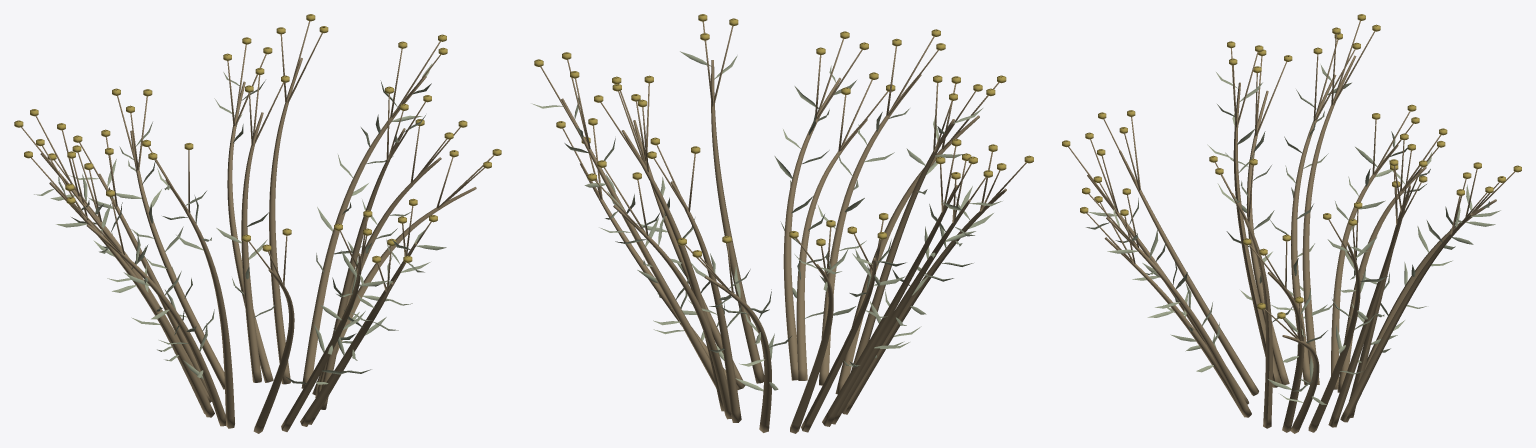
The model's file is Immortelle_0_Niveau1.fbx.
The picture shows the model from 3 angles, left to right: view 1: azimuth 30°, elevation 25°; view 2: azimuth 150°, elevation 25°; view 3: azimuth 270°, elevation 25°; orthographic projection. The views are drawn at different scales.
Parts seen in each view (by area): view 1: Immortelle_0_Niveau1_Jeu; view 2: Immortelle_0_Niveau1_Jeu; view 3: Immortelle_0_Niveau1_Jeu.
Boxes of the visible parts, <box> form: Immortelle_0_Niveau1_Jeu: <box>14,14,501,433</box>; Immortelle_0_Niveau1_Jeu: <box>531,14,1033,433</box>; Immortelle_0_Niveau1_Jeu: <box>1062,14,1521,433</box>.
Size of the model in its own units: 40.27 by 27.37 by 38.01.
